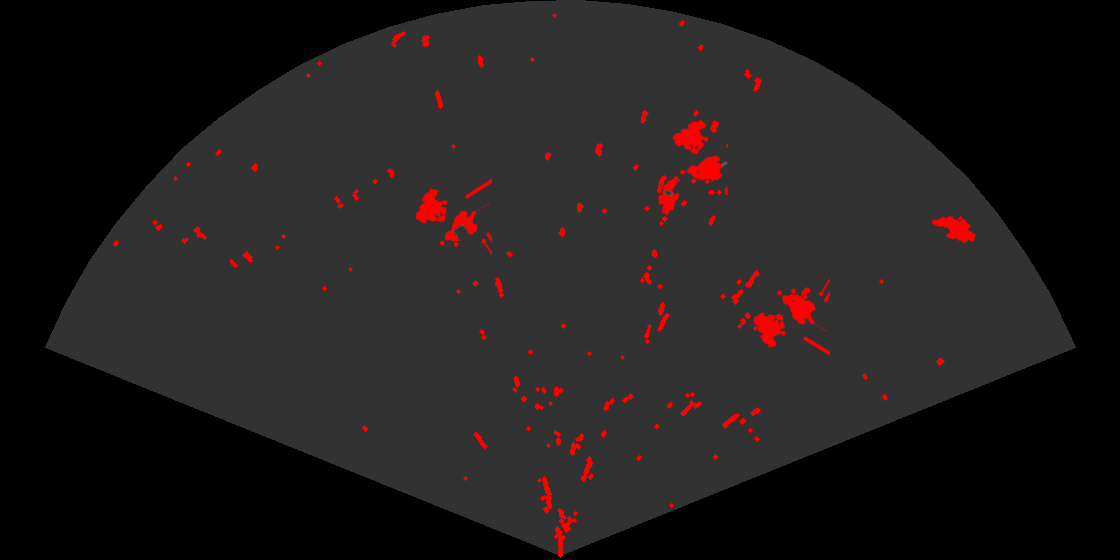AUV: (930, 214, 978, 244), (656, 174, 681, 217)
cage: (414, 177, 492, 257), (752, 277, 830, 357), (671, 118, 728, 195)
